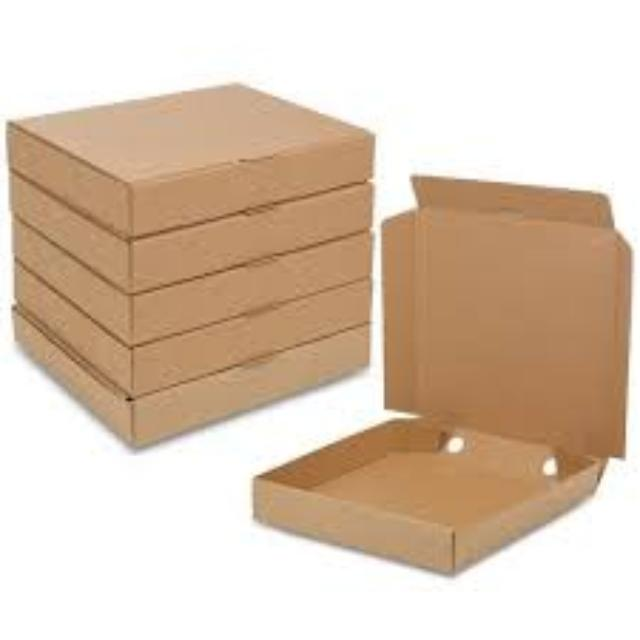cardboard paper: (250, 174, 626, 566), (14, 85, 370, 441)
